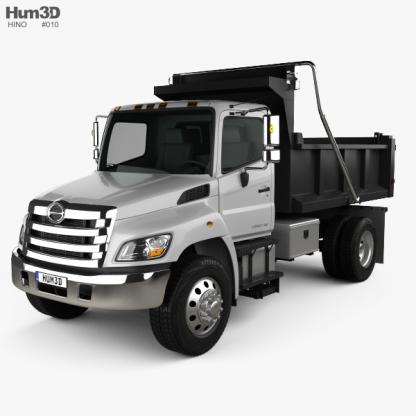dump_truck: (12, 36, 408, 356)
